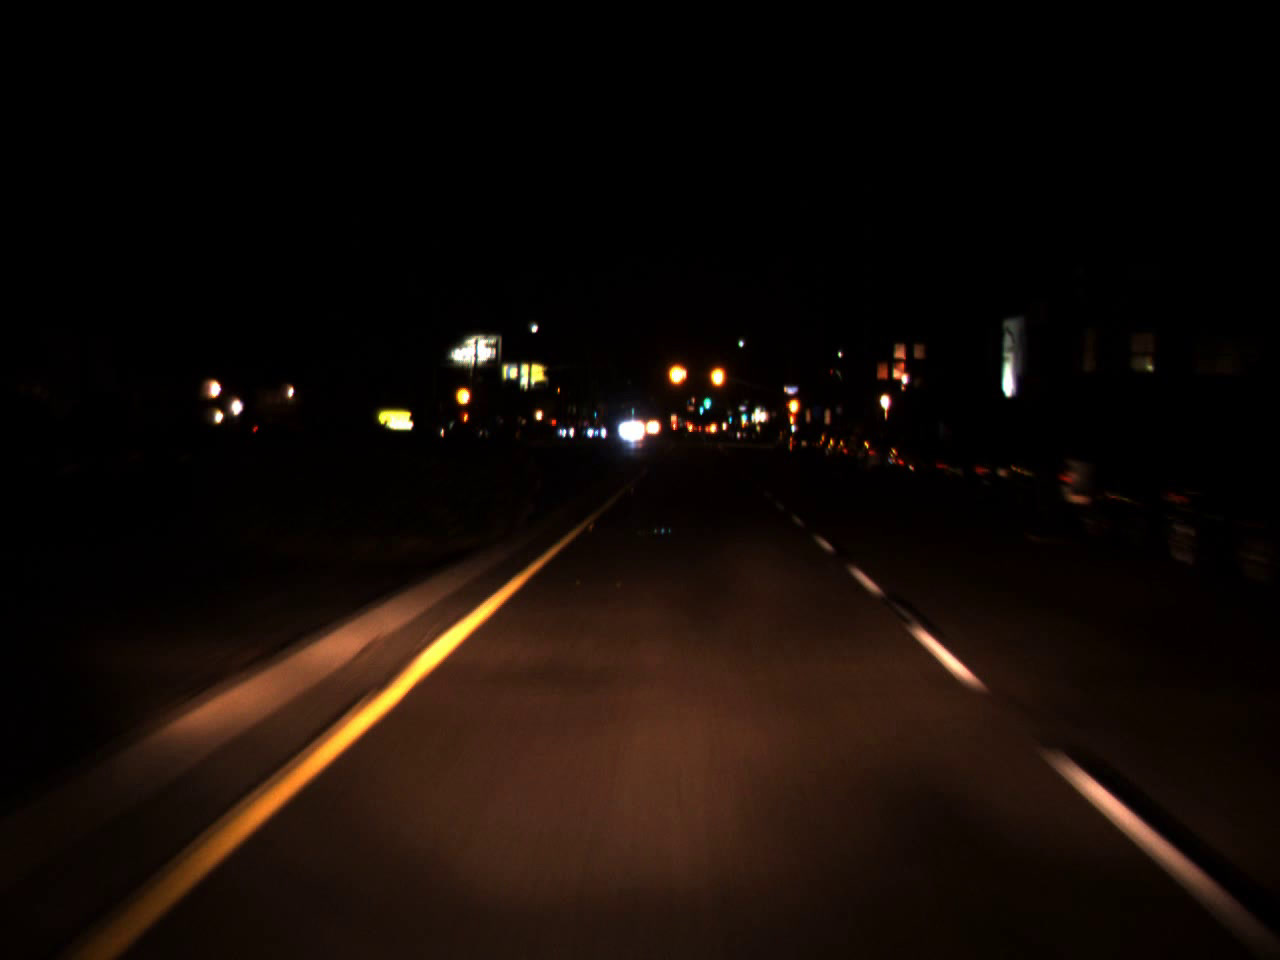go: (702, 391, 711, 409), (726, 408, 733, 426), (697, 399, 703, 417), (740, 407, 747, 422)
warning: (664, 351, 689, 396), (707, 353, 728, 398), (454, 373, 473, 415), (786, 391, 802, 418)
